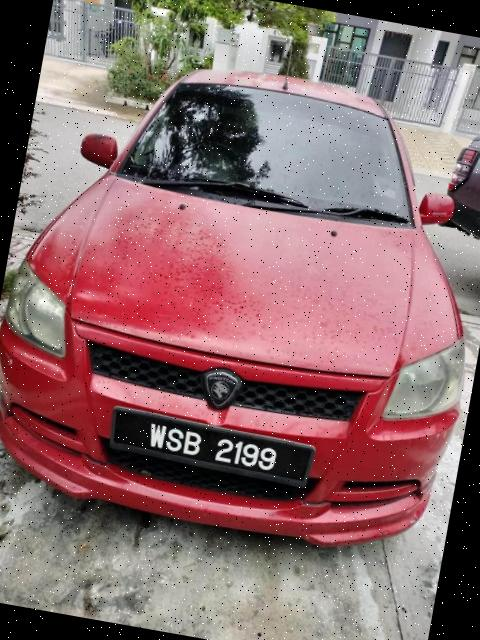License_Plate: (114, 406, 308, 490)
